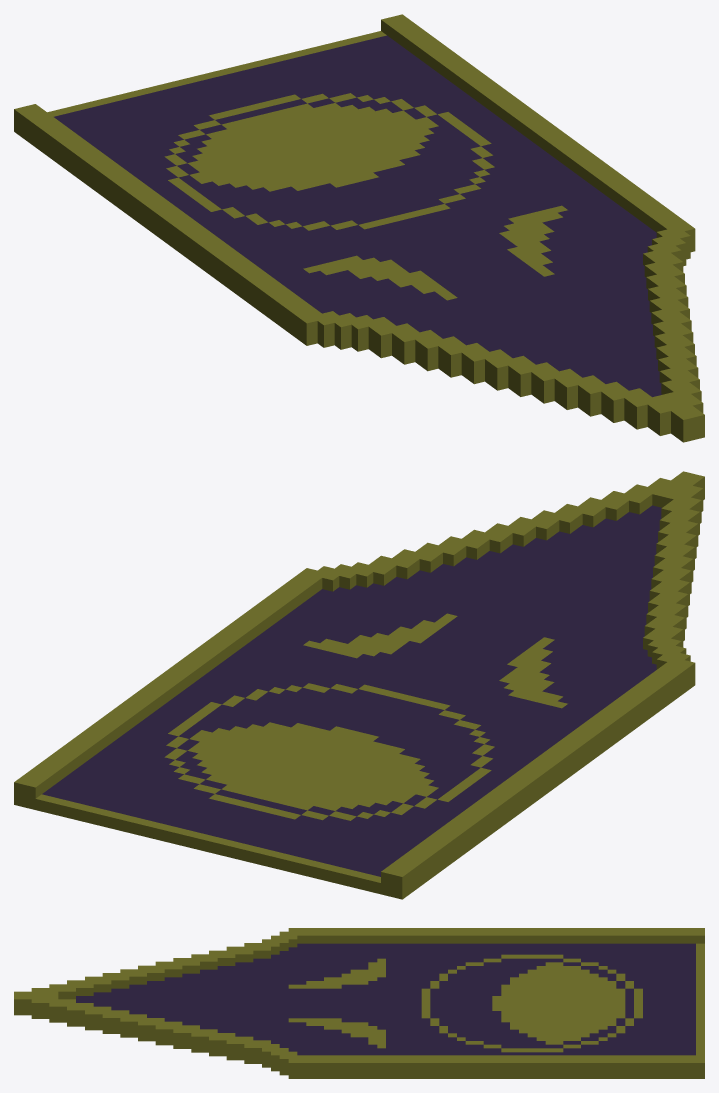
The model's file is WizardBanner.obj.
3 views of the same model, one above another, from view 1: azimuth 30°, elevation 25°; view 2: azimuth 150°, elevation 25°; view 3: azimuth 270°, elevation 25° (orthographic). The views are drawn at different scales.
Visible parts, largest first — view 1: WizardBanner; view 2: WizardBanner; view 3: WizardBanner.
Boxes of the visible parts, box(x1,y1,x2,y2) form: WizardBanner: box(14, 14, 704, 442); WizardBanner: box(14, 471, 704, 899); WizardBanner: box(14, 928, 704, 1078).
Bounding box in the file's own units: 36 × 2 × 78.
Materials: 1 (1 with a texture image).
